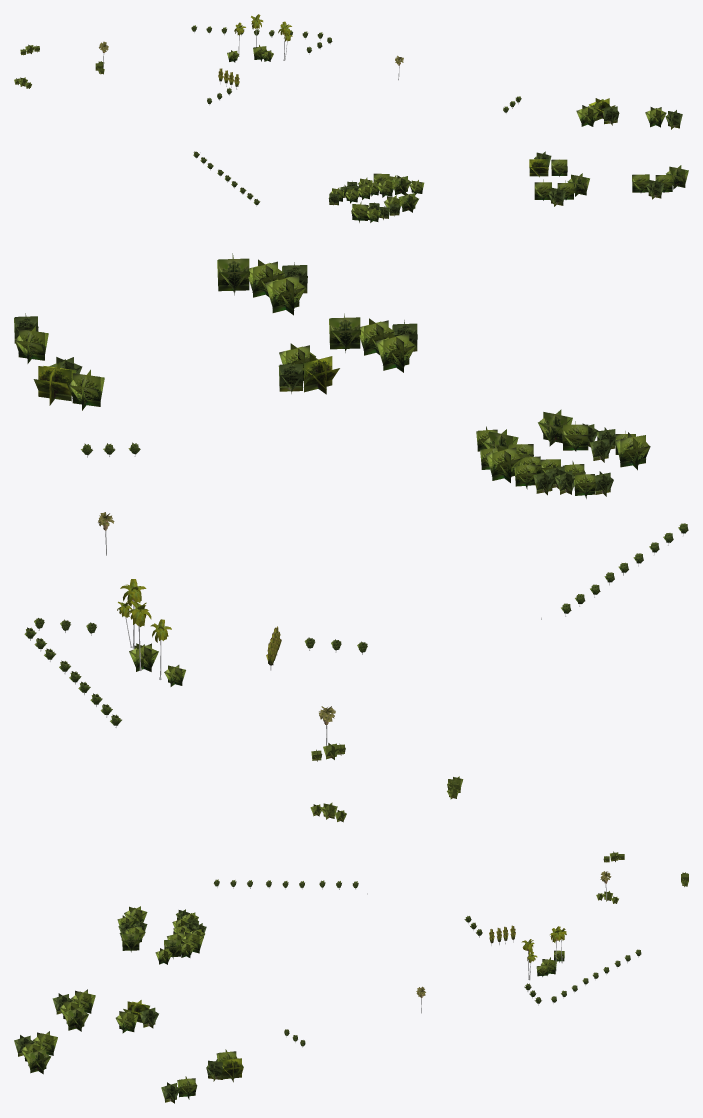
File: Tree.fbx
The picture shows the model from 3 angles, top to bottom: view 1: azimuth 30°, elevation 25°; view 2: azimuth 150°, elevation 25°; view 3: azimuth 270°, elevation 25°; orthographic projection. The views are drawn at different scales.
Visible parts, largest first — view 1: Tree; view 2: Tree; view 3: Tree.
Boxes of the visible parts, <box> form: Tree: <box>14,14,688,222</box>; Tree: <box>14,253,688,822</box>; Tree: <box>14,851,688,1103</box>.
Size of the model in its own units: 209 by 18.46 by 244.
